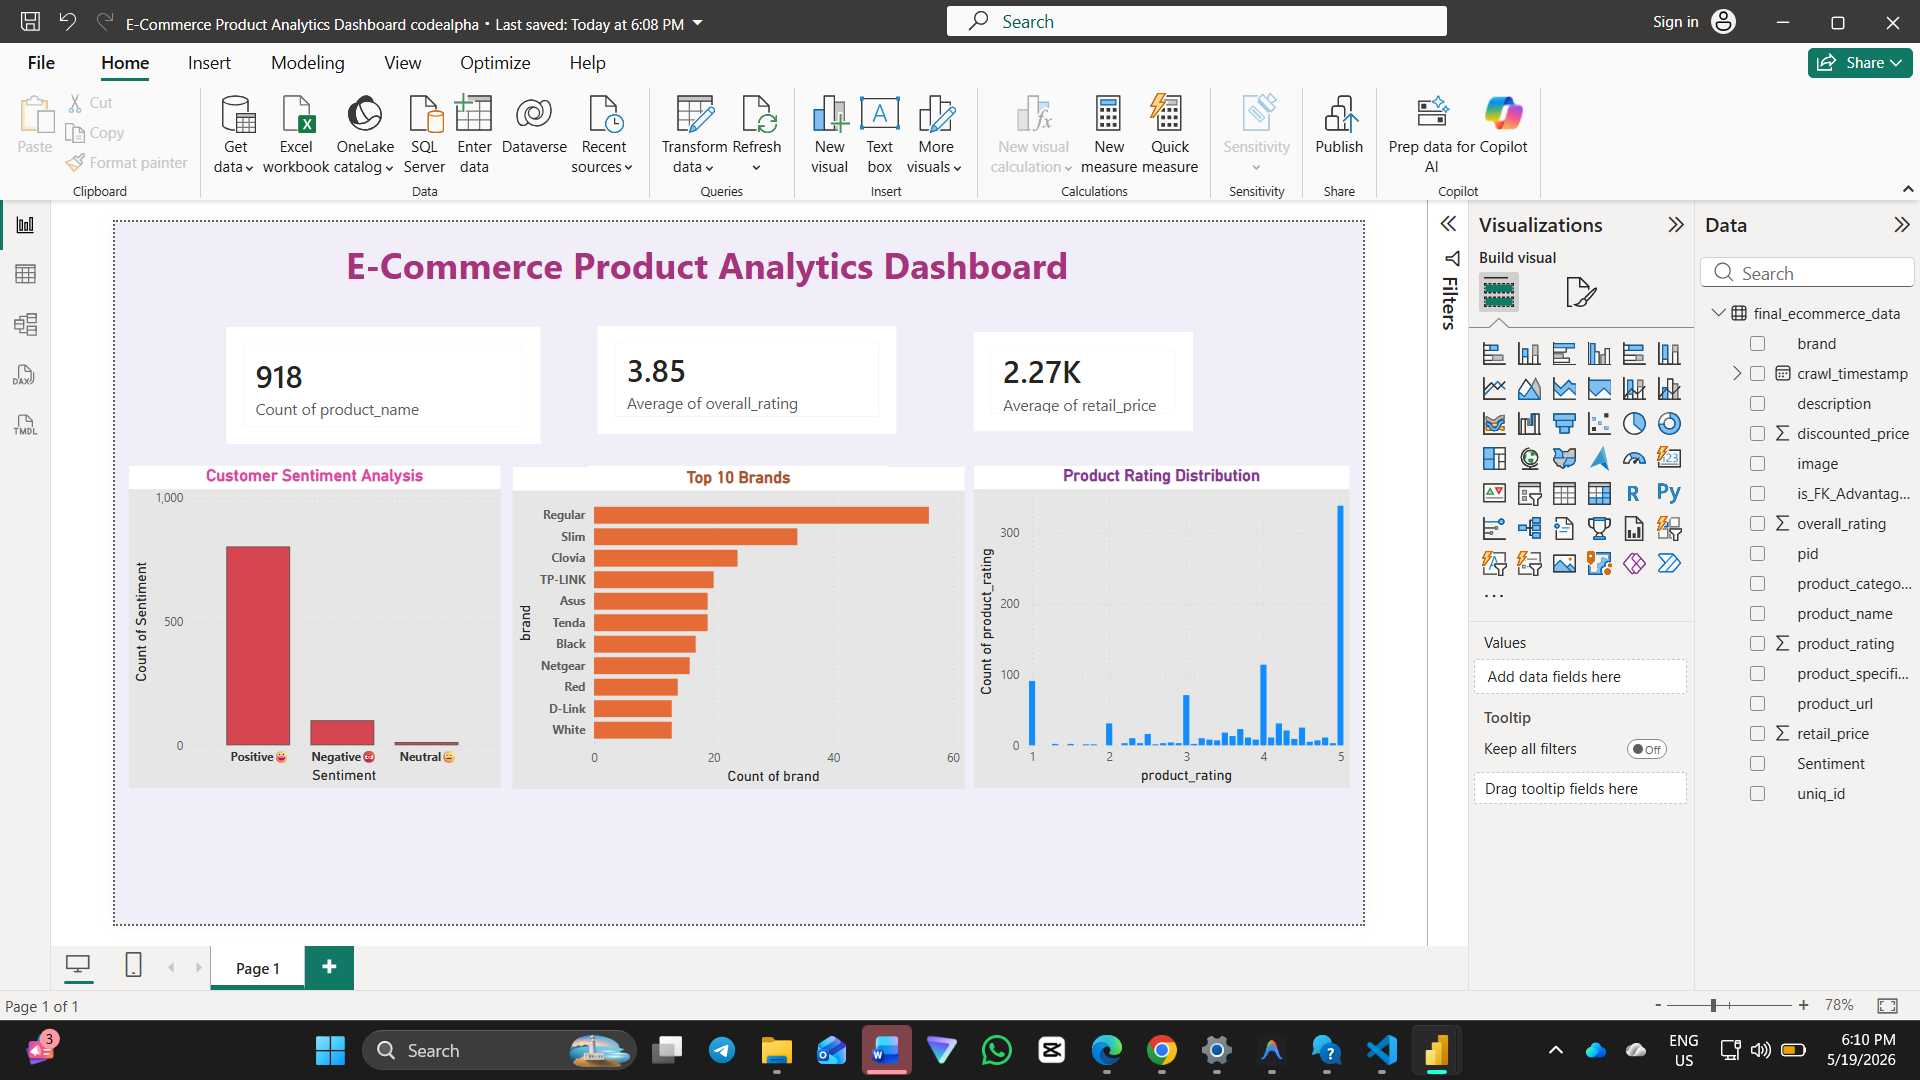

What the dashboard file says about the page in this screenshot:
{"tool":"powerbi","page":{"name":"Page 1","canvas":[1280,720],"ordinal":0},"visuals":[{"type":"cardVisual","fields":{"Data":["CountNonNull(final_ecommerce_data.product_name)"]},"box":[114,108,322,120],"z":0},{"type":"cardVisual","fields":{"Data":["Avg(final_ecommerce_data.overall_rating)"]},"box":[495.4,107,306,111.1],"z":1000},{"type":"cardVisual","fields":{"Data":["Avg(final_ecommerce_data.retail_price)"]},"box":[881,112.5,225,101.5],"z":2000},{"type":"clusteredColumnChart","title":"Customer Sentiment Analysis","fields":{"Category":["final_ecommerce_data.Sentiment"],"Y":["CountNonNull(final_ecommerce_data.Sentiment)"]},"box":[13.7,249.7,381.5,330.7],"z":3000},{"type":"textbox","box":[486,250,306,150],"z":5000},{"type":"clusteredBarChart","title":"Top 10 Brands","fields":{"Category":["final_ecommerce_data.brand"],"Y":["CountNonNull(final_ecommerce_data.brand)"]},"box":[407.5,251.1,463.8,330.7],"z":6000},{"type":"clusteredColumnChart","title":"Product Rating Distribution","fields":{"Category":["final_ecommerce_data.product_rating"],"Y":["CountNonNull(final_ecommerce_data.product_rating)"]},"box":[881,249.7,385.6,330.7],"z":6001},{"type":"textbox","box":[220,14,774,68],"z":6002}]}

Visuals, with their boxes on the page's 1280x720 design canvas (x1, y1, x2, y2). These are canvas units, not pixel positions in the 1920x1080 screenshot, which may show the page scaled, cropped or inside an application window:
cardVisual - CountNonNull(final_ecommerce_data.product_name): select_region(114, 108, 436, 228)
cardVisual - Avg(final_ecommerce_data.overall_rating): select_region(495, 107, 801, 218)
cardVisual - Avg(final_ecommerce_data.retail_price): select_region(881, 112, 1106, 214)
"Customer Sentiment Analysis" clusteredColumnChart: select_region(14, 250, 395, 580)
textbox: select_region(486, 250, 792, 400)
"Top 10 Brands" clusteredBarChart: select_region(408, 251, 871, 582)
"Product Rating Distribution" clusteredColumnChart: select_region(881, 250, 1267, 580)
textbox: select_region(220, 14, 994, 82)
